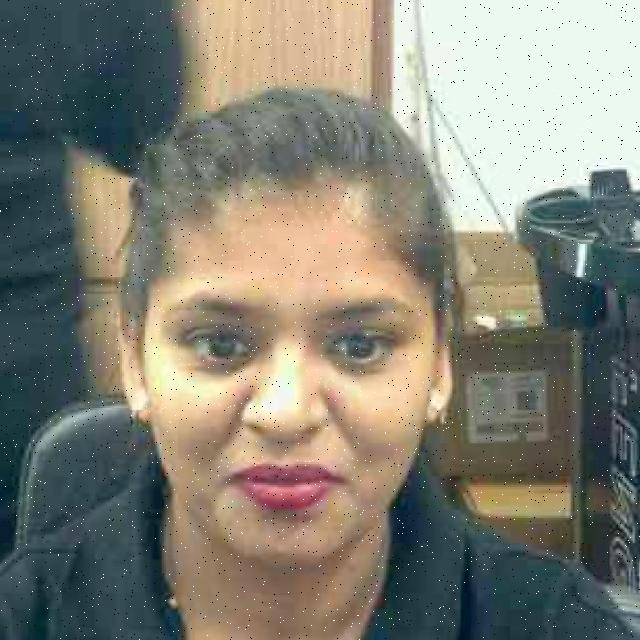puffy_eyes: (198, 349, 260, 376), (327, 354, 380, 375)
